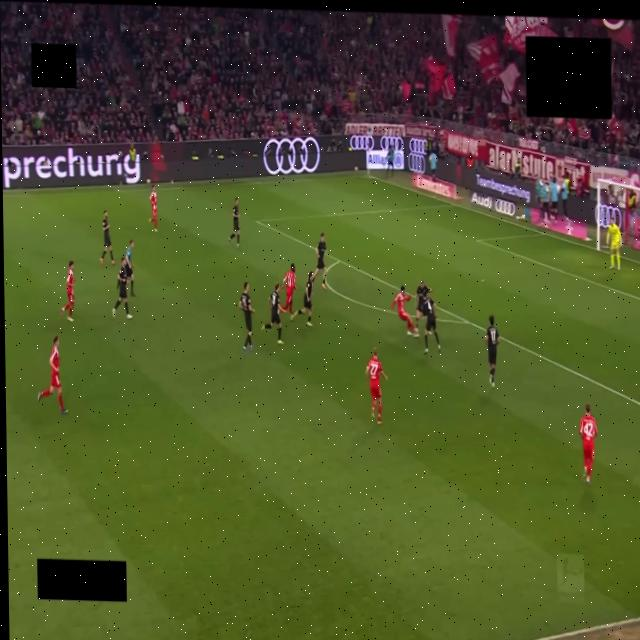player: (38, 336, 67, 414), (366, 348, 386, 424), (391, 286, 418, 338), (580, 405, 597, 483), (263, 283, 283, 343), (113, 259, 132, 319), (292, 272, 312, 327), (421, 297, 440, 353), (239, 282, 254, 352), (486, 315, 499, 387), (313, 233, 327, 289), (61, 261, 74, 321), (101, 211, 115, 264), (416, 280, 432, 326), (282, 264, 297, 313), (607, 223, 621, 270), (228, 198, 240, 246), (149, 185, 157, 232)
referee: (125, 239, 135, 297)
